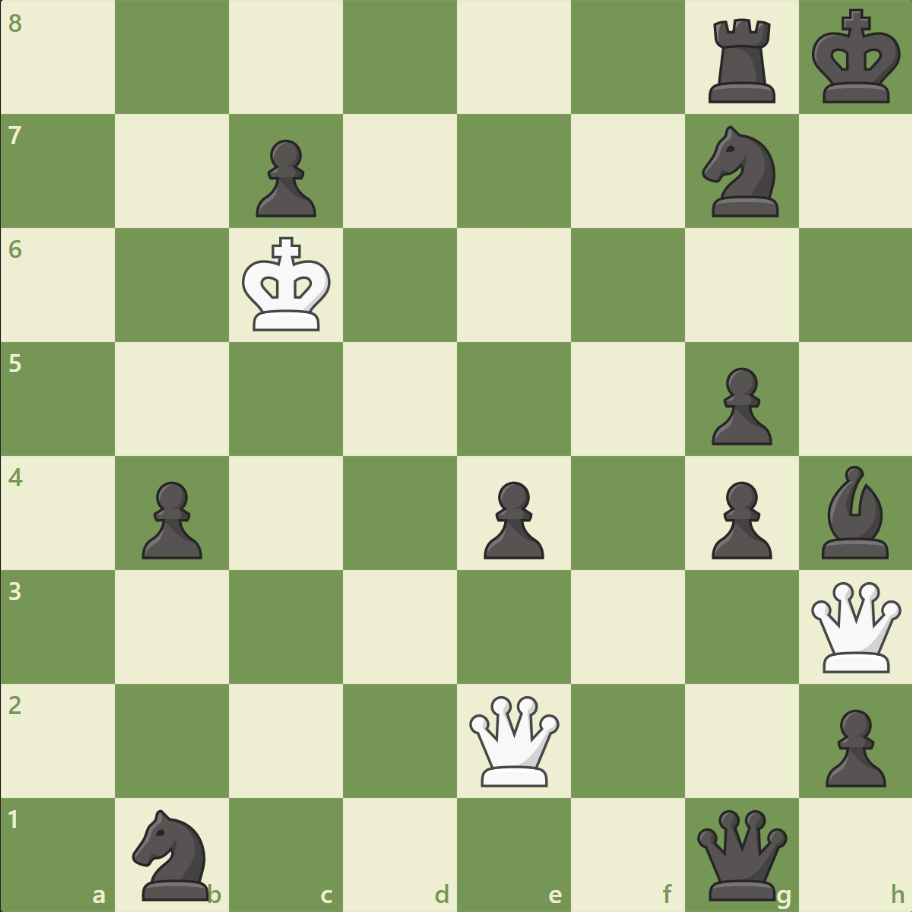K: (238, 231, 338, 339)
Q: (805, 576, 904, 676), (464, 690, 563, 789)
b: (812, 460, 896, 563)
k: (806, 4, 906, 112)
n: (124, 802, 222, 904), (692, 121, 789, 223)
p: (247, 132, 322, 223), (701, 359, 776, 450), (133, 473, 208, 564), (474, 473, 549, 564), (701, 473, 776, 564), (815, 700, 889, 791)
q: (691, 804, 790, 903)
r: (700, 12, 783, 109)
